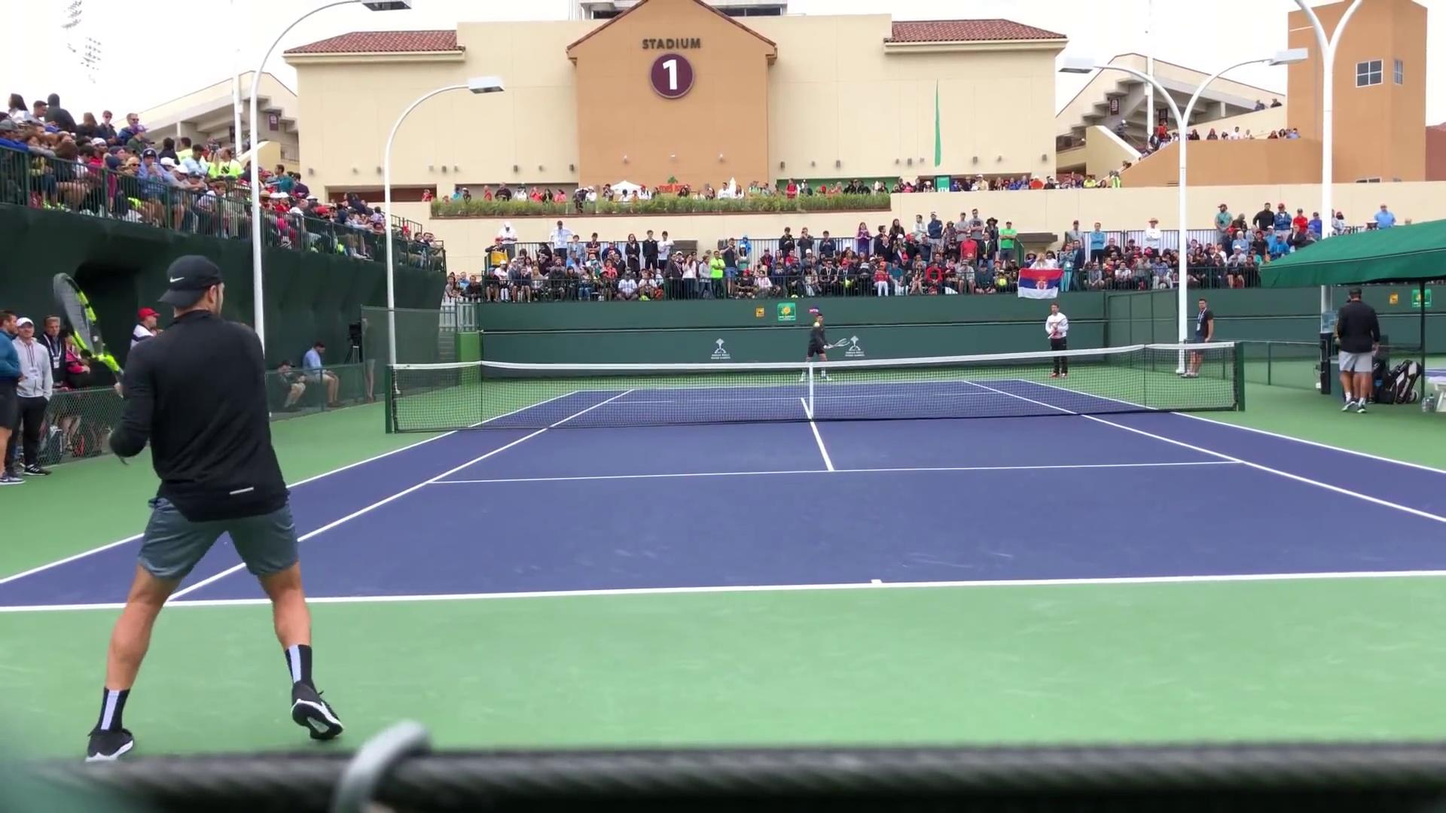ball: (812, 321, 820, 327)
